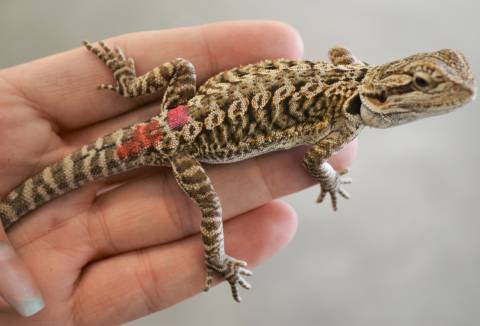bearded: (1, 36, 477, 300)
